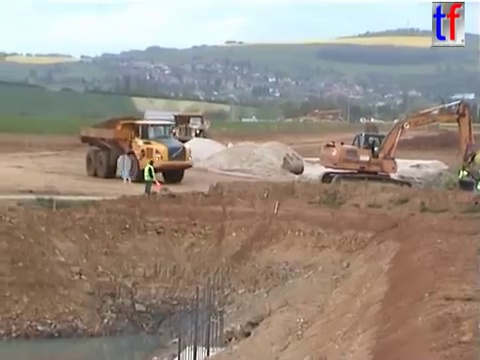excavator: (317, 97, 480, 203)
truck: (77, 117, 195, 185), (168, 112, 208, 152), (361, 121, 380, 140), (426, 122, 440, 135)
worker: (142, 158, 159, 196), (456, 162, 471, 194), (475, 166, 480, 196)
